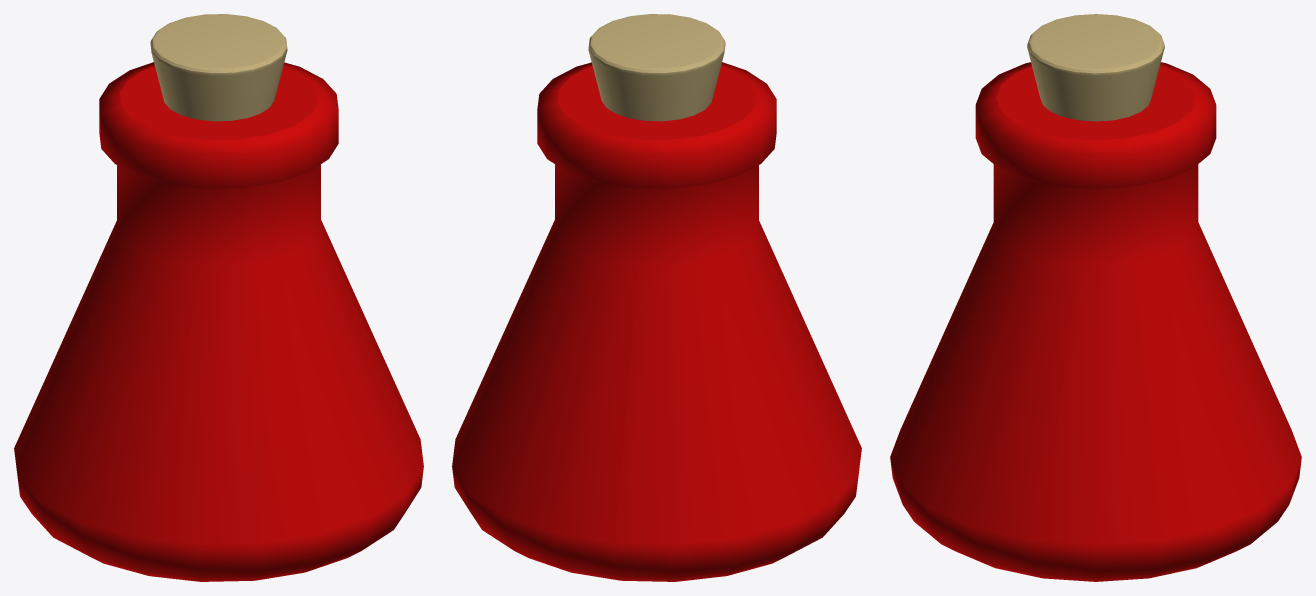
The model's file is PotionRed.fbx.
The picture shows the model from 3 angles, left to right: view 1: azimuth 30°, elevation 25°; view 2: azimuth 150°, elevation 25°; view 3: azimuth 270°, elevation 25°; orthographic projection.
Parts seen in each view (by area): view 1: pCylinder1; view 2: pCylinder1; view 3: pCylinder1.
Part boxes in pixels (bbox=[...]): pCylinder1: bbox=[14, 14, 423, 581]; pCylinder1: bbox=[452, 14, 861, 581]; pCylinder1: bbox=[890, 14, 1301, 581].
Bounding box in the file's own units: 2.33 × 2.96 × 2.33.
